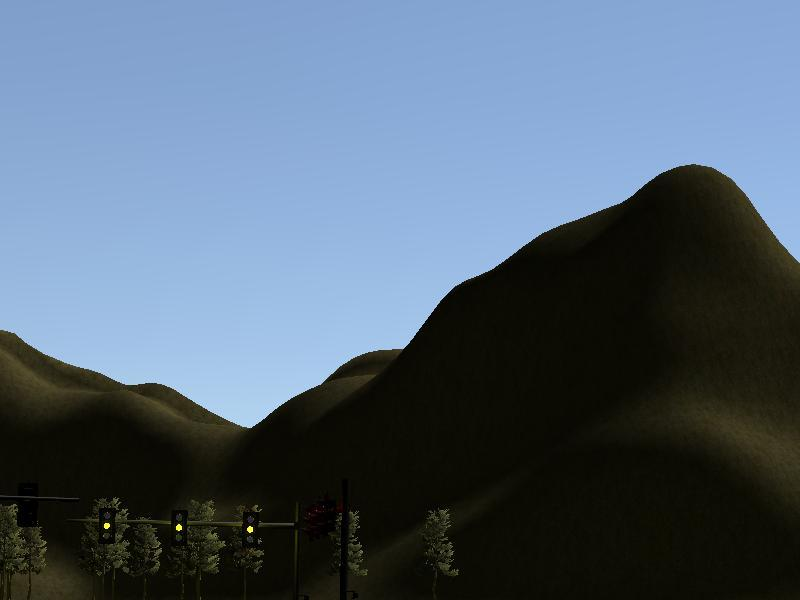Yellow: (170, 510, 188, 545), (99, 508, 115, 544), (241, 513, 257, 547)
